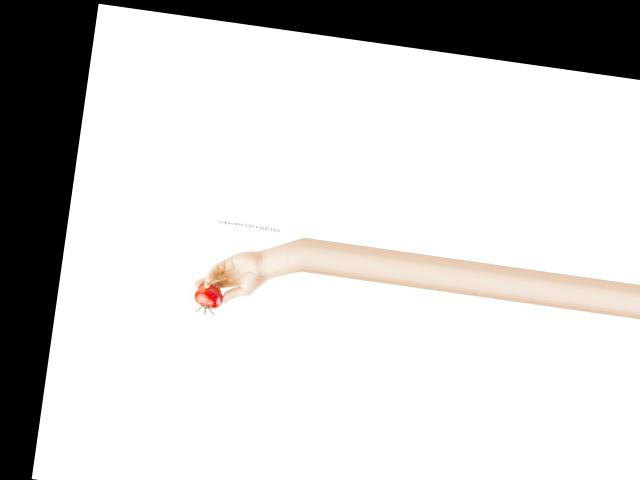tomato: (193, 281, 225, 309)
